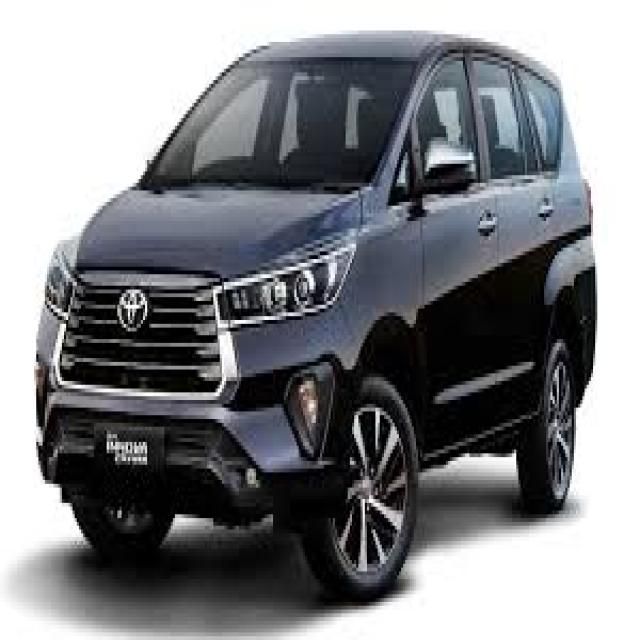light_vehicle: (36, 31, 598, 606)
